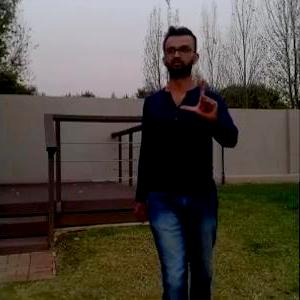land_hand: (178, 69, 221, 123)
